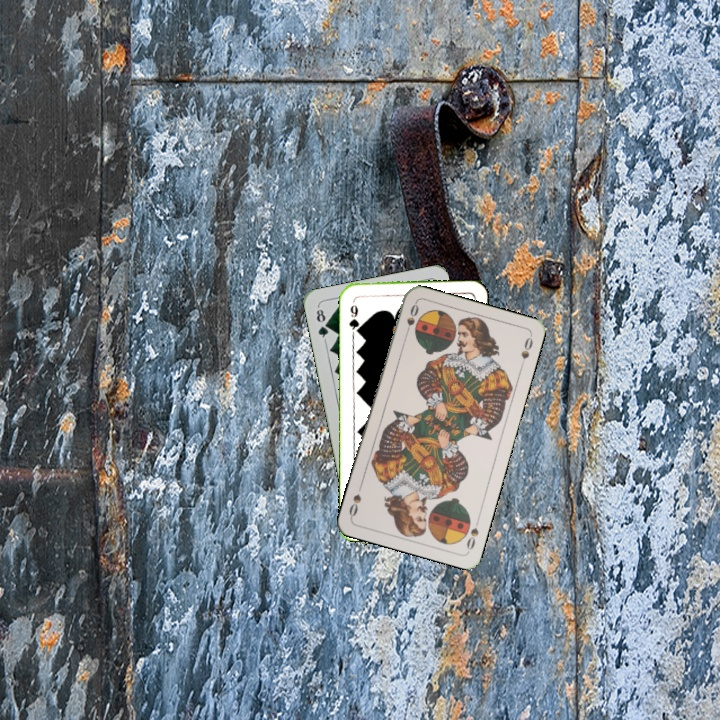G8: (312, 303, 331, 343)
G9: (345, 296, 362, 336)
SO: (401, 300, 421, 339), (462, 514, 482, 552)
